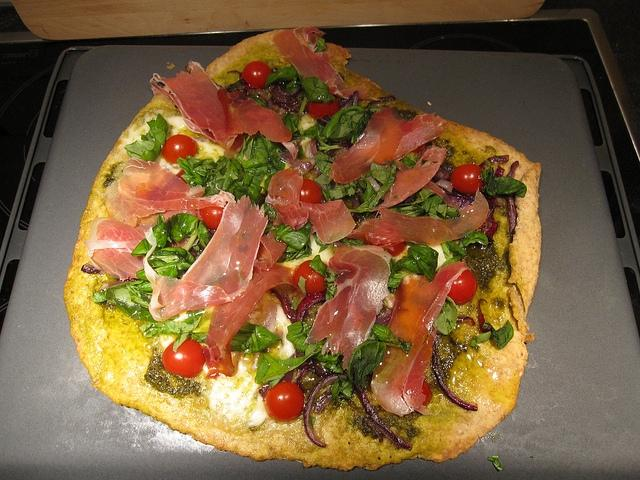tomato: (162, 338, 206, 378), (262, 382, 304, 422), (292, 260, 328, 295), (162, 134, 198, 164), (448, 270, 478, 305), (451, 164, 485, 194), (242, 60, 272, 90), (308, 98, 339, 120), (298, 178, 322, 203), (387, 242, 406, 256)
